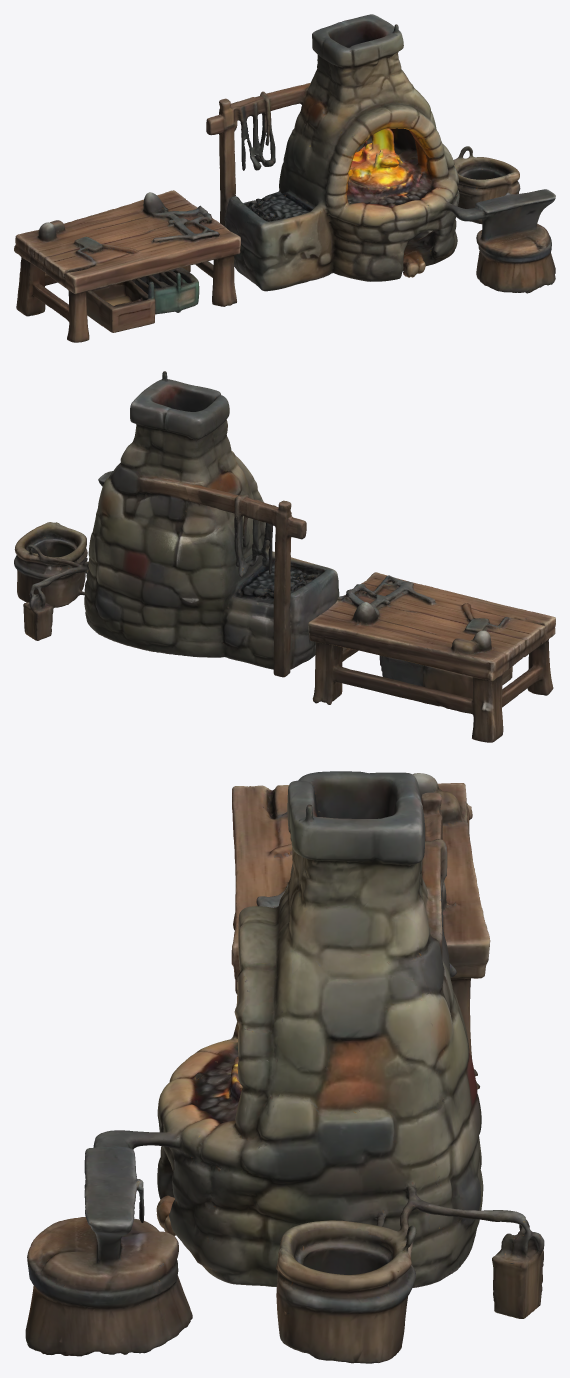
File: LoRen_opt.glb
3 renders of one model, top to bottom at view 1: azimuth 30°, elevation 25°; view 2: azimuth 150°, elevation 25°; view 3: azimuth 270°, elevation 25°, orthographic. The views are drawn at different scales.
Size of the model in its own units: 2 by 0.9517 by 0.9617.
1 material, 1 textured.
